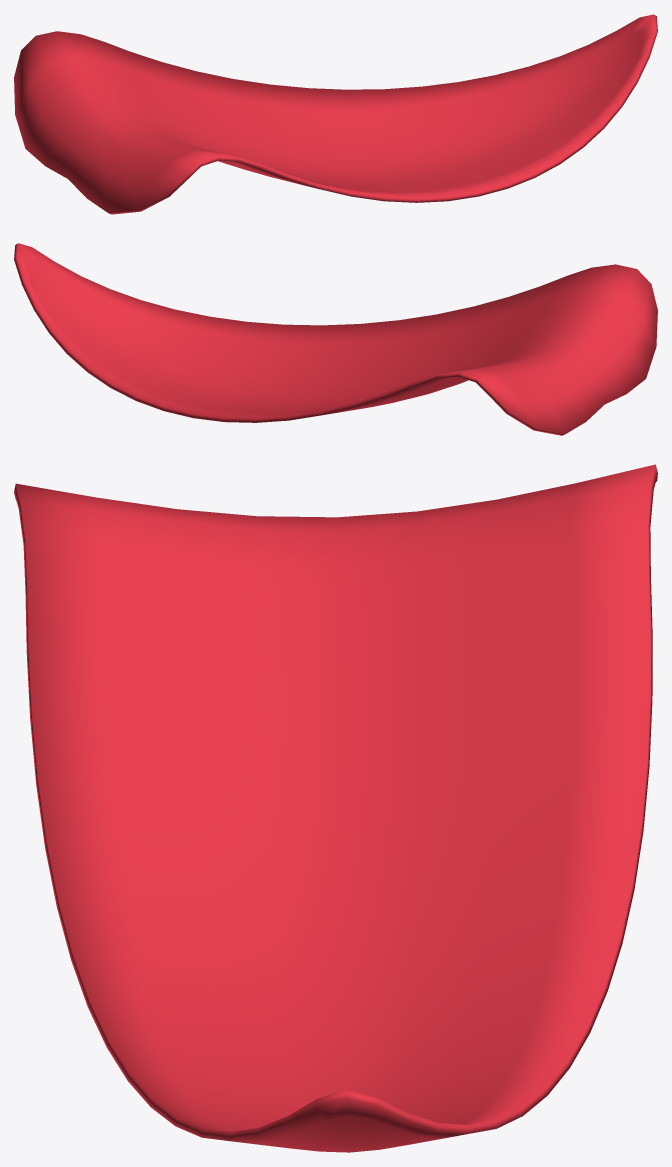
File: rosepetal.fbx
3 renders of one model, top to bottom at view 1: azimuth 30°, elevation 25°; view 2: azimuth 150°, elevation 25°; view 3: azimuth 270°, elevation 25°, orthographic. The views are drawn at different scales.
Visible parts, largest first — view 1: rosepetal; view 2: rosepetal; view 3: rosepetal.
Part boxes in pixels (x1,y1,x2,y2): rosepetal: (14,14,657,214); rosepetal: (14,243,657,435); rosepetal: (14,464,657,1152).
Size of the model in its own units: 149 by 36.22 by 70.84.
